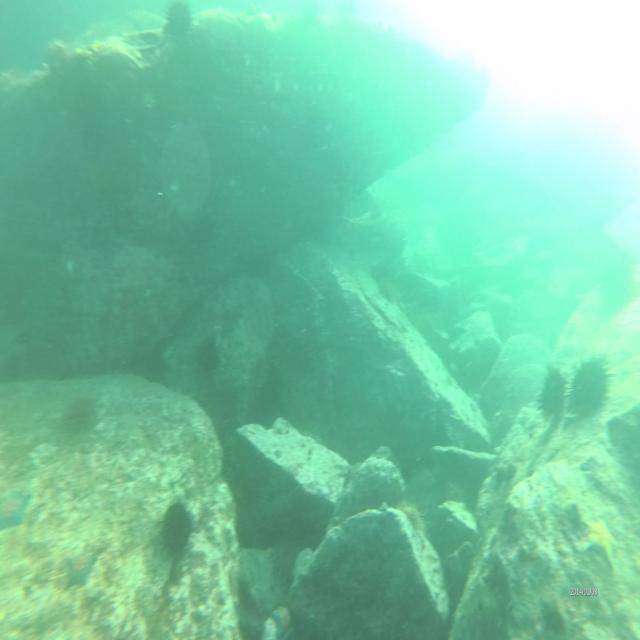echinus: (570, 355, 612, 425), (161, 500, 193, 560), (64, 388, 100, 439), (535, 364, 567, 420), (163, 0, 194, 46), (396, 497, 423, 542), (193, 340, 217, 378)
starfish: (578, 511, 617, 571), (66, 547, 98, 593), (0, 490, 33, 532), (274, 602, 296, 639)
